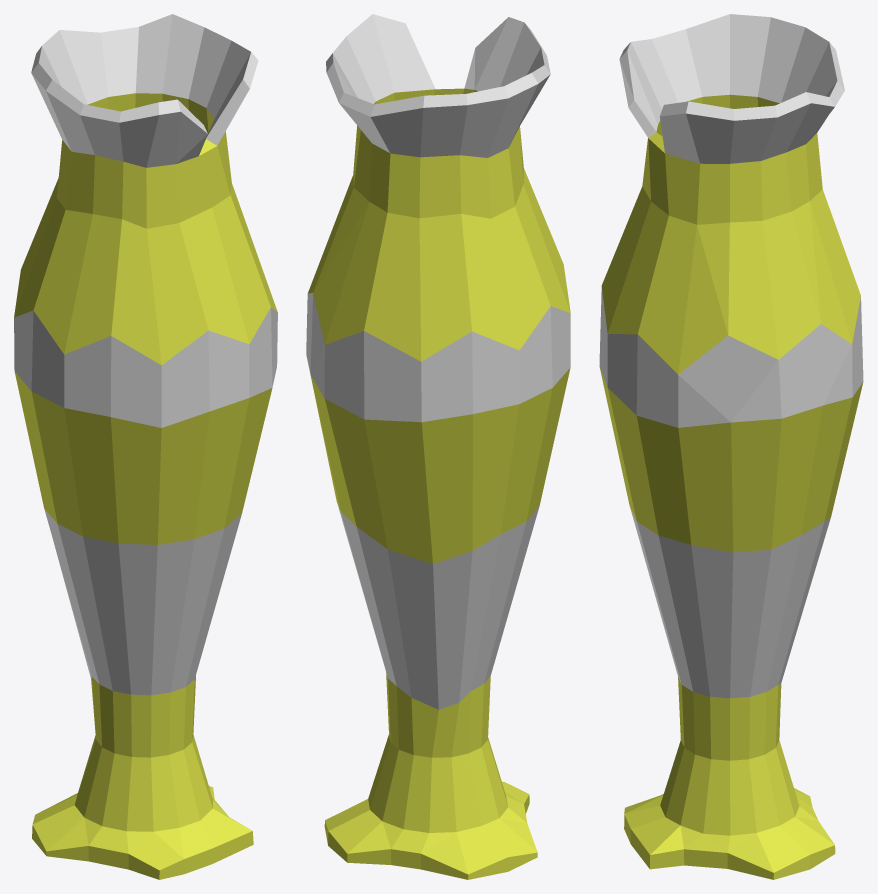
Rendered from Vase_L_2.fbx.
The picture shows the model from 3 angles, left to right: view 1: azimuth 30°, elevation 25°; view 2: azimuth 150°, elevation 25°; view 3: azimuth 270°, elevation 25°; orthographic projection.
Visible parts, largest first — view 1: Vase_L_2; view 2: Vase_L_2; view 3: Vase_L_2.
Part boxes in pixels (left/top/right/bottom): Vase_L_2: left=14, top=14, right=277, bottom=879; Vase_L_2: left=306, top=14, right=570, bottom=879; Vase_L_2: left=599, top=14, right=863, bottom=879.
Bounding box in the file's own units: 0.1673 × 0.5485 × 0.169.
